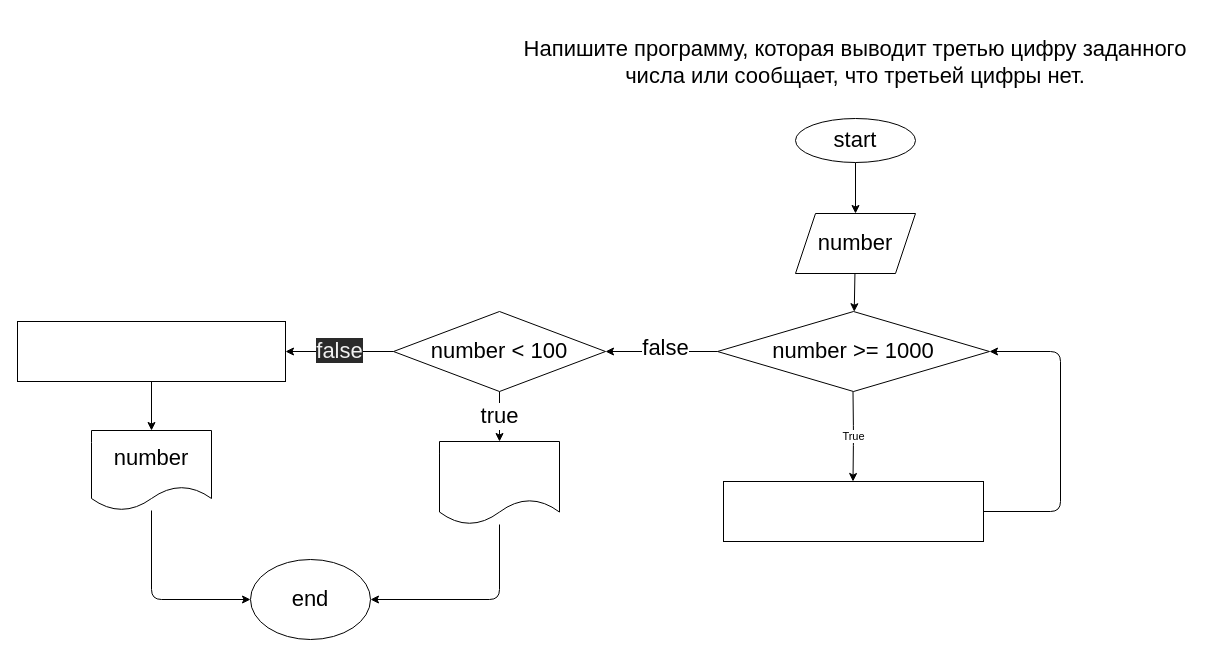
The diagram is 1225 pixels wide and 657 high, and some of its shapes have lost their labels. Each missing label, with the centre of its shape:
"number = number % 10" belongs at (151,351).
"number = number / 10" belongs at (853,511).
"Третьей цифры нет" belongs at (499,482).
